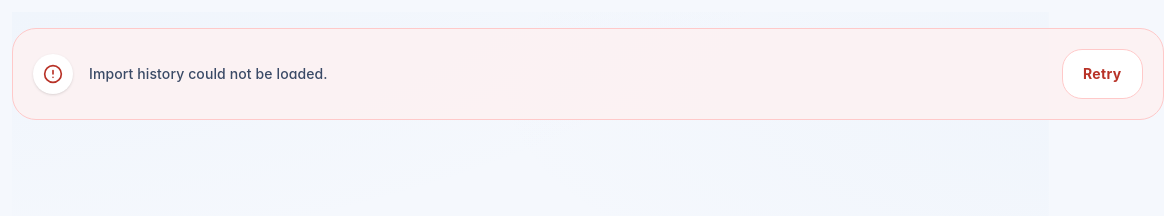
Test case: ImportHistory › shows loading and retries a failed history request
Later steps or results of the test are not shown.
Click the button "Retry" at (1103, 74), box left=1062, top=49, right=1143, bottom=99
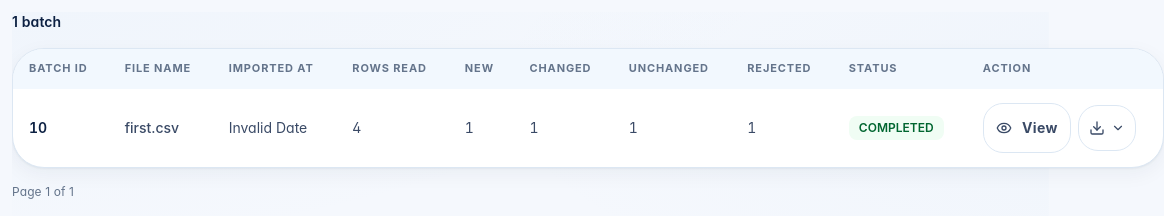
Now the text "first.csv" is shown, box left=109, top=89, right=213, bottom=167
